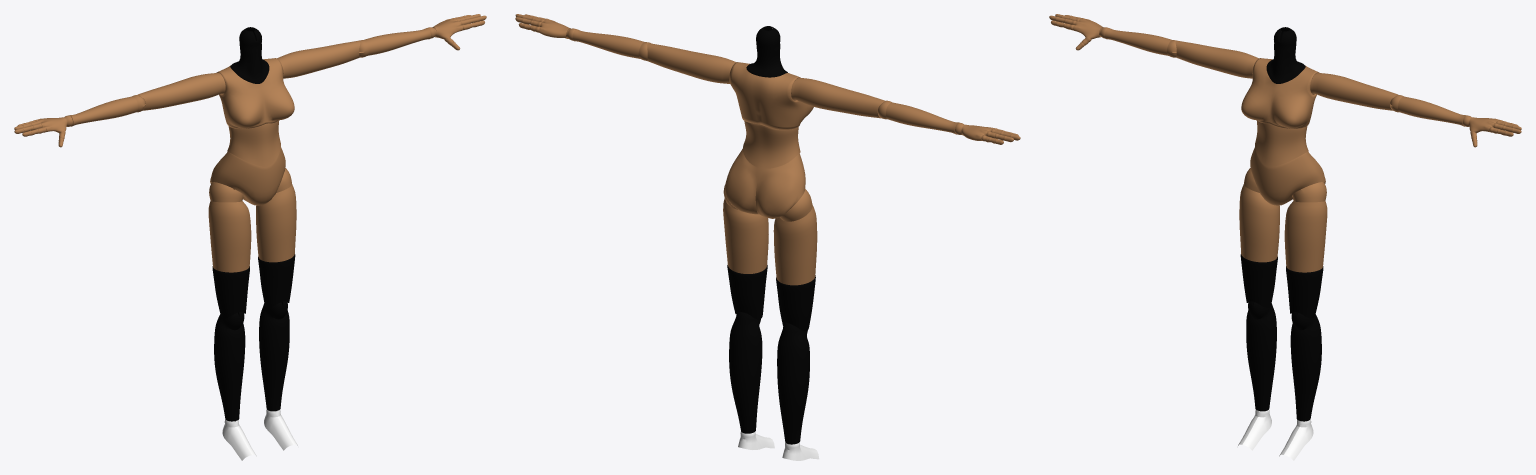
The model's file is BodyForTexture.obj.
The picture shows the model from 3 angles, left to right: view 1: azimuth 30°, elevation 25°; view 2: azimuth 150°, elevation 25°; view 3: azimuth 330°, elevation 25°; orthographic projection. The views are drawn at different scales.
Visible parts, largest first — view 1: Doll.Thigh, Doll.Leg, Doll.Chest, Doll.Forearm, Doll.Pelvis, Doll.Arm, Doll.Waist, Doll.Shoe.002, Doll.Fingers, Doll.Palm; view 2: Doll.Thigh, Doll.Leg, Doll.Chest, Doll.Forearm, Doll.Pelvis, Doll.Arm, Doll.Waist, Doll.Shoe.002, Doll.Palm, Doll.Fingers; view 3: Doll.Thigh, Doll.Leg, Doll.Chest, Doll.Forearm, Doll.Pelvis, Doll.Arm, Doll.Waist, Doll.Shoe.002, Doll.Fingers, Doll.Palm.
Boxes of the visible parts, x1=… form: Doll.Thigh: x1=208, y1=168, x2=296, y2=318; Doll.Leg: x1=214, y1=301, x2=289, y2=421; Doll.Chest: x1=216, y1=27, x2=294, y2=128; Doll.Forearm: x1=137, y1=40, x2=360, y2=110; Doll.Pelvis: x1=210, y1=147, x2=285, y2=205; Doll.Arm: x1=69, y1=28, x2=430, y2=126; Doll.Waist: x1=227, y1=120, x2=280, y2=167; Doll.Shoe.002: x1=222, y1=409, x2=297, y2=460; Doll.Fingers: x1=14, y1=14, x2=486, y2=147; Doll.Palm: x1=36, y1=18, x2=462, y2=132; Doll.Thigh: x1=723, y1=185, x2=817, y2=330; Doll.Leg: x1=729, y1=312, x2=809, y2=444; Doll.Chest: x1=729, y1=26, x2=813, y2=129; Doll.Forearm: x1=647, y1=43, x2=884, y2=118; Doll.Pelvis: x1=725, y1=148, x2=805, y2=218; Doll.Arm: x1=572, y1=29, x2=959, y2=134; Doll.Waist: x1=743, y1=121, x2=800, y2=168; Doll.Shoe.002: x1=738, y1=431, x2=819, y2=460; Doll.Palm: x1=538, y1=19, x2=994, y2=140; Doll.Fingers: x1=515, y1=14, x2=1020, y2=144; Doll.Thigh: x1=1239, y1=168, x2=1327, y2=318; Doll.Leg: x1=1246, y1=301, x2=1321, y2=421; Doll.Chest: x1=1241, y1=27, x2=1319, y2=128; Doll.Forearm: x1=1175, y1=40, x2=1398, y2=110; Doll.Pelvis: x1=1250, y1=147, x2=1325, y2=205; Doll.Arm: x1=1105, y1=28, x2=1466, y2=126; Doll.Waist: x1=1255, y1=120, x2=1308, y2=167; Doll.Shoe.002: x1=1238, y1=409, x2=1313, y2=460; Doll.Fingers: x1=1049, y1=14, x2=1521, y2=147; Doll.Palm: x1=1073, y1=18, x2=1499, y2=132.
Size of the model in its own units: 1.46 by 1.21 by 0.1941.
